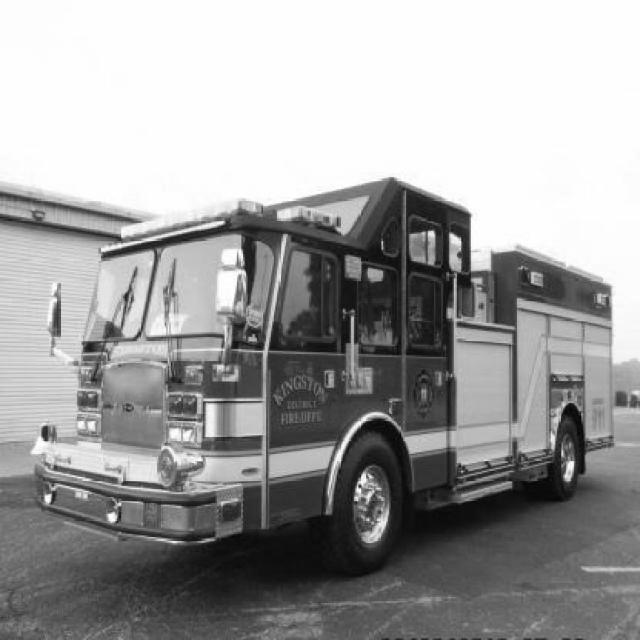Fire Truck: (30, 178, 618, 579)
